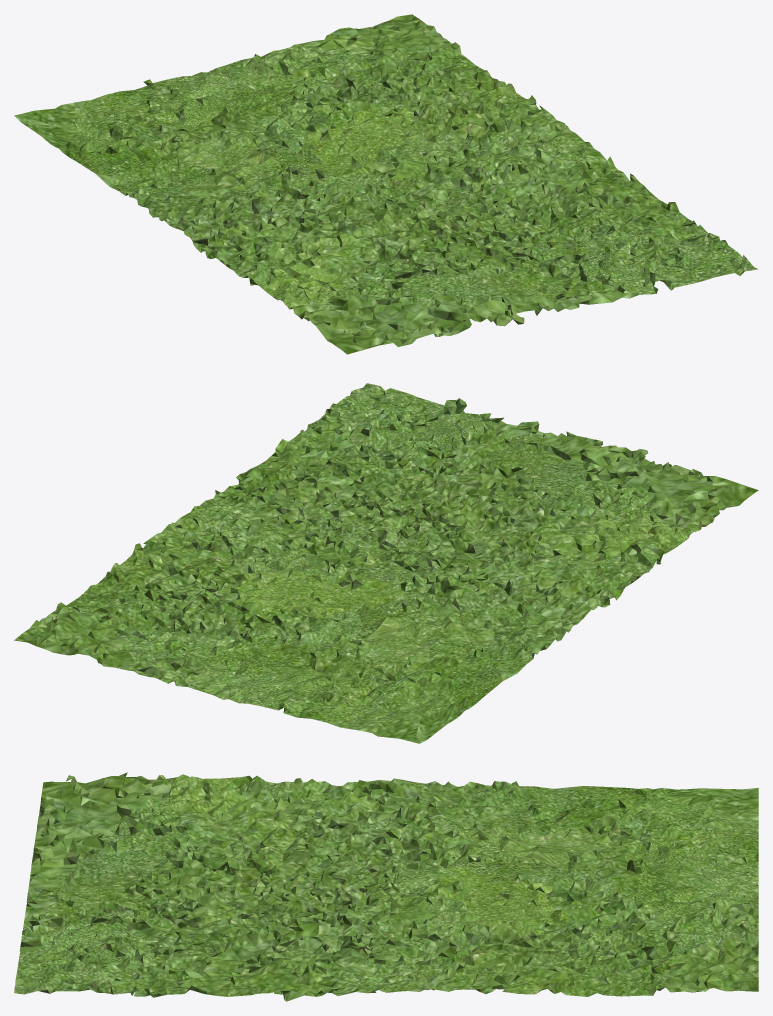
File: GRASS.fbx
3 renders of one model, top to bottom at view 1: azimuth 30°, elevation 25°; view 2: azimuth 150°, elevation 25°; view 3: azimuth 270°, elevation 25°, orthographic. The views are drawn at different scales.
Parts seen in each view (by area): view 1: Mesh_0; view 2: Mesh_0; view 3: Mesh_0.
Part boxes in pixels (x1,y1,x2,y2): Mesh_0: (14, 14, 758, 354); Mesh_0: (14, 383, 758, 743); Mesh_0: (14, 772, 758, 1001).
Bounding box in the file's own units: 248 × 18.77 × 373.
